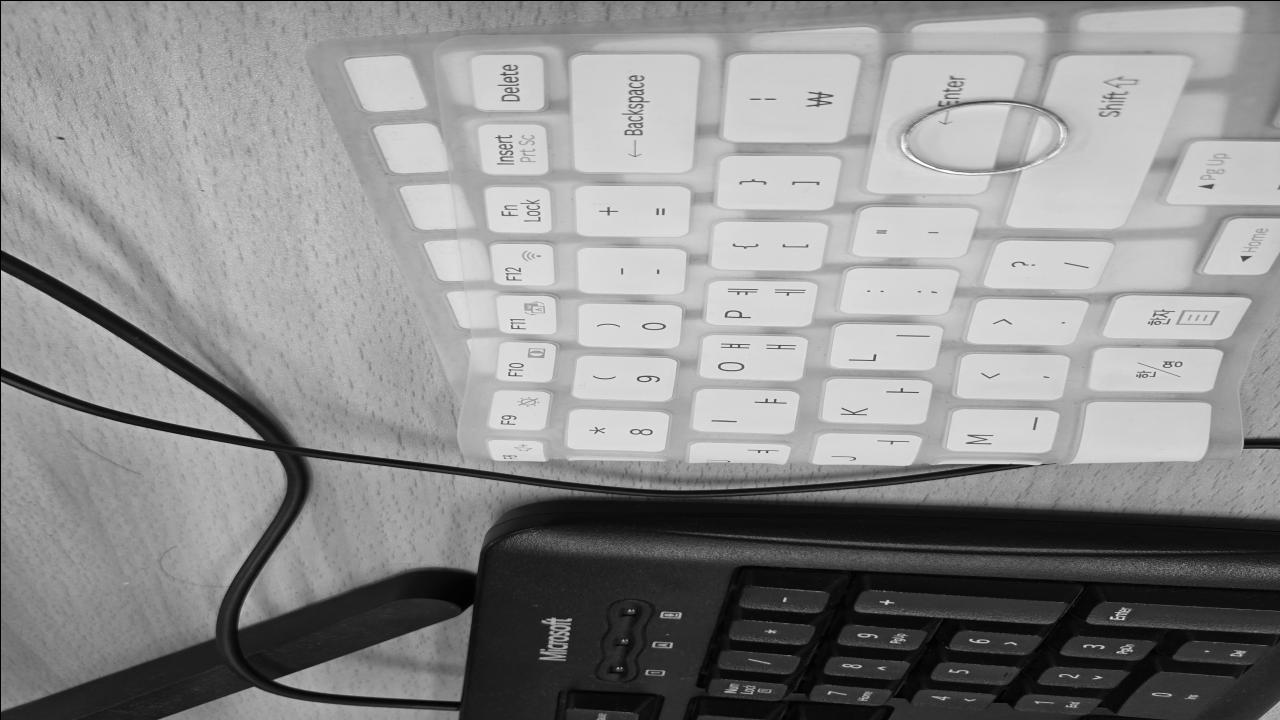ring: (892, 96, 1076, 177)
